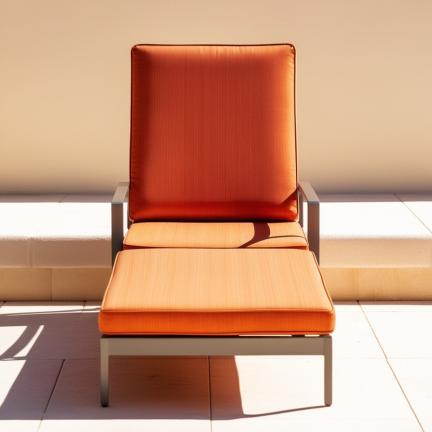empty chair: (99, 45, 335, 406)
